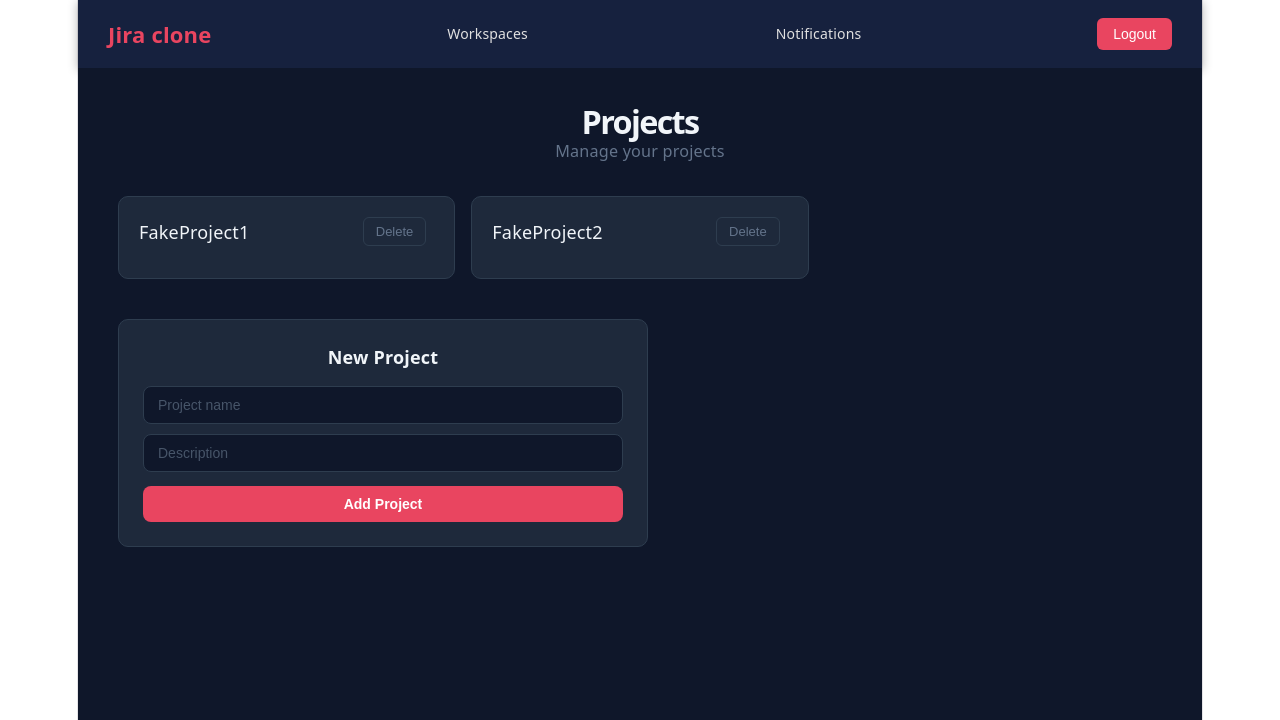
Test case: ProjectsPage › should delete project
This screenshot has width=1280, height=720.
Expected: the link "FakeProject1" is shown, [139,219,250,245]
Click the button "Delete" next to "FakeProject1".
click(395, 232)  # box [363,217,426,246]
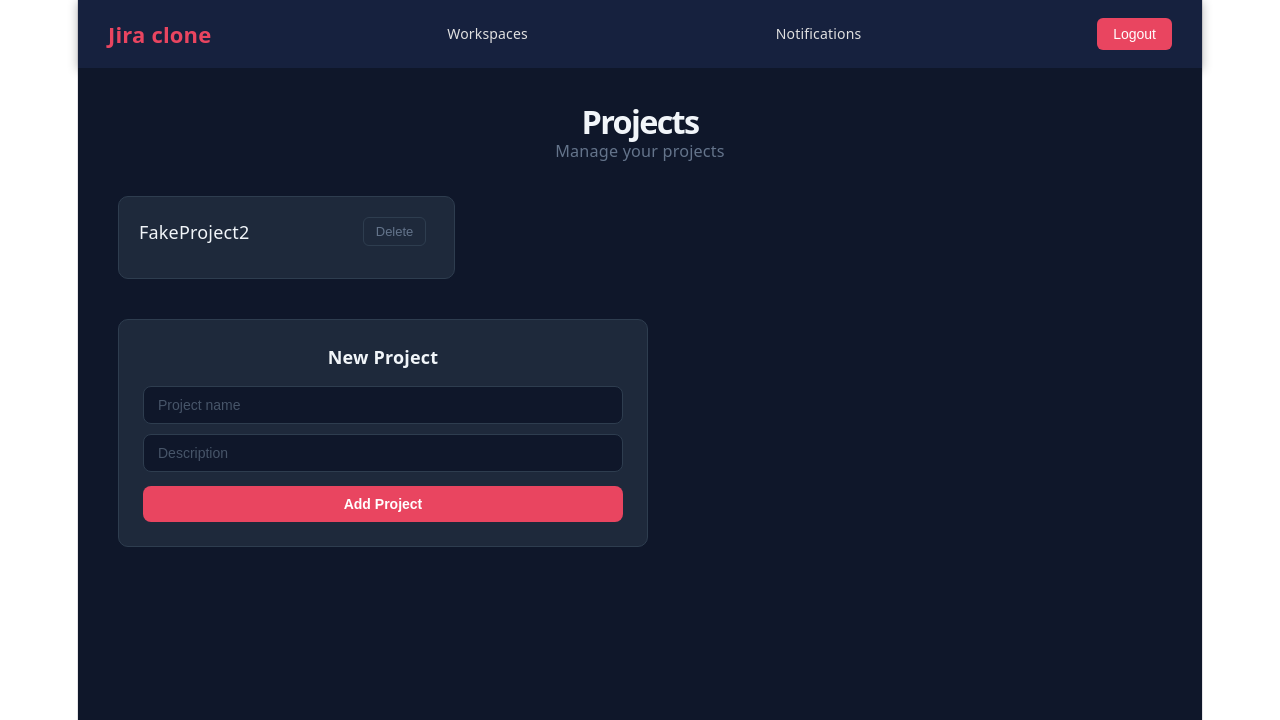
Now the link "FakeProject1" is gone
